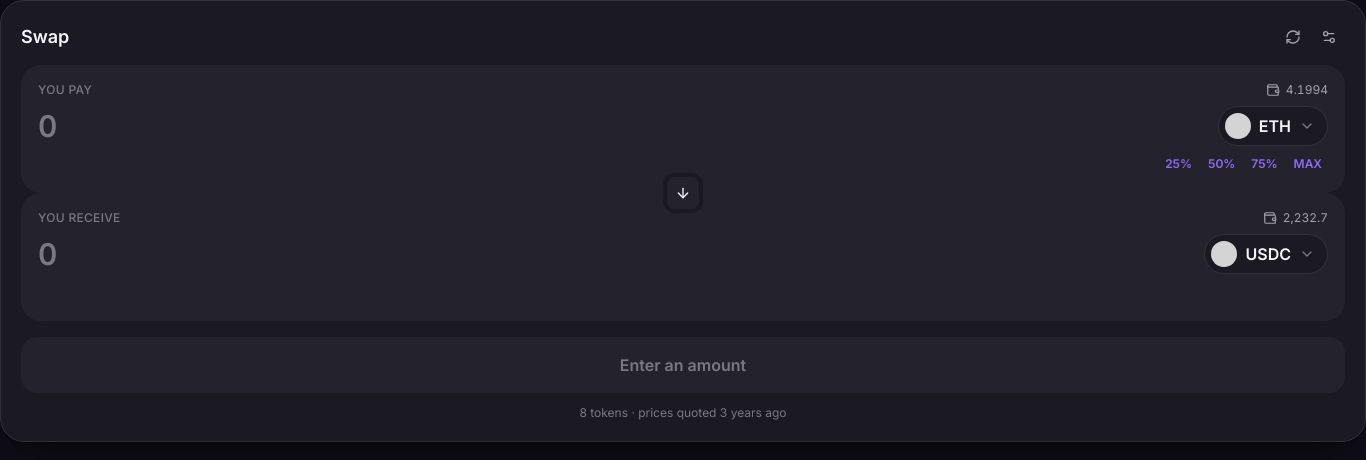
the direction toggle › exchanges the two tokens
This screenshot has width=1366, height=460.
Check: the button with aria-label "change token, currently eth" is shown, box 1218,106 -> 1328,146
Click the button named "swap the pay and receive tokens".
click(683, 193)  # box 663,173 -> 703,213
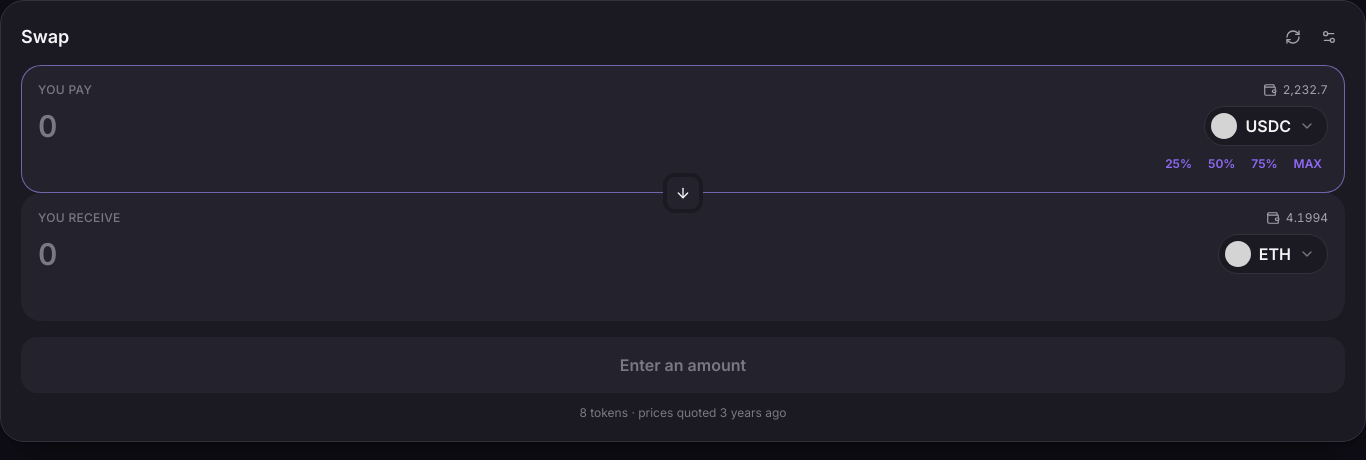
Check: the button with aria-label "change token, currently usdc" is shown, box 1204,106 -> 1328,146
